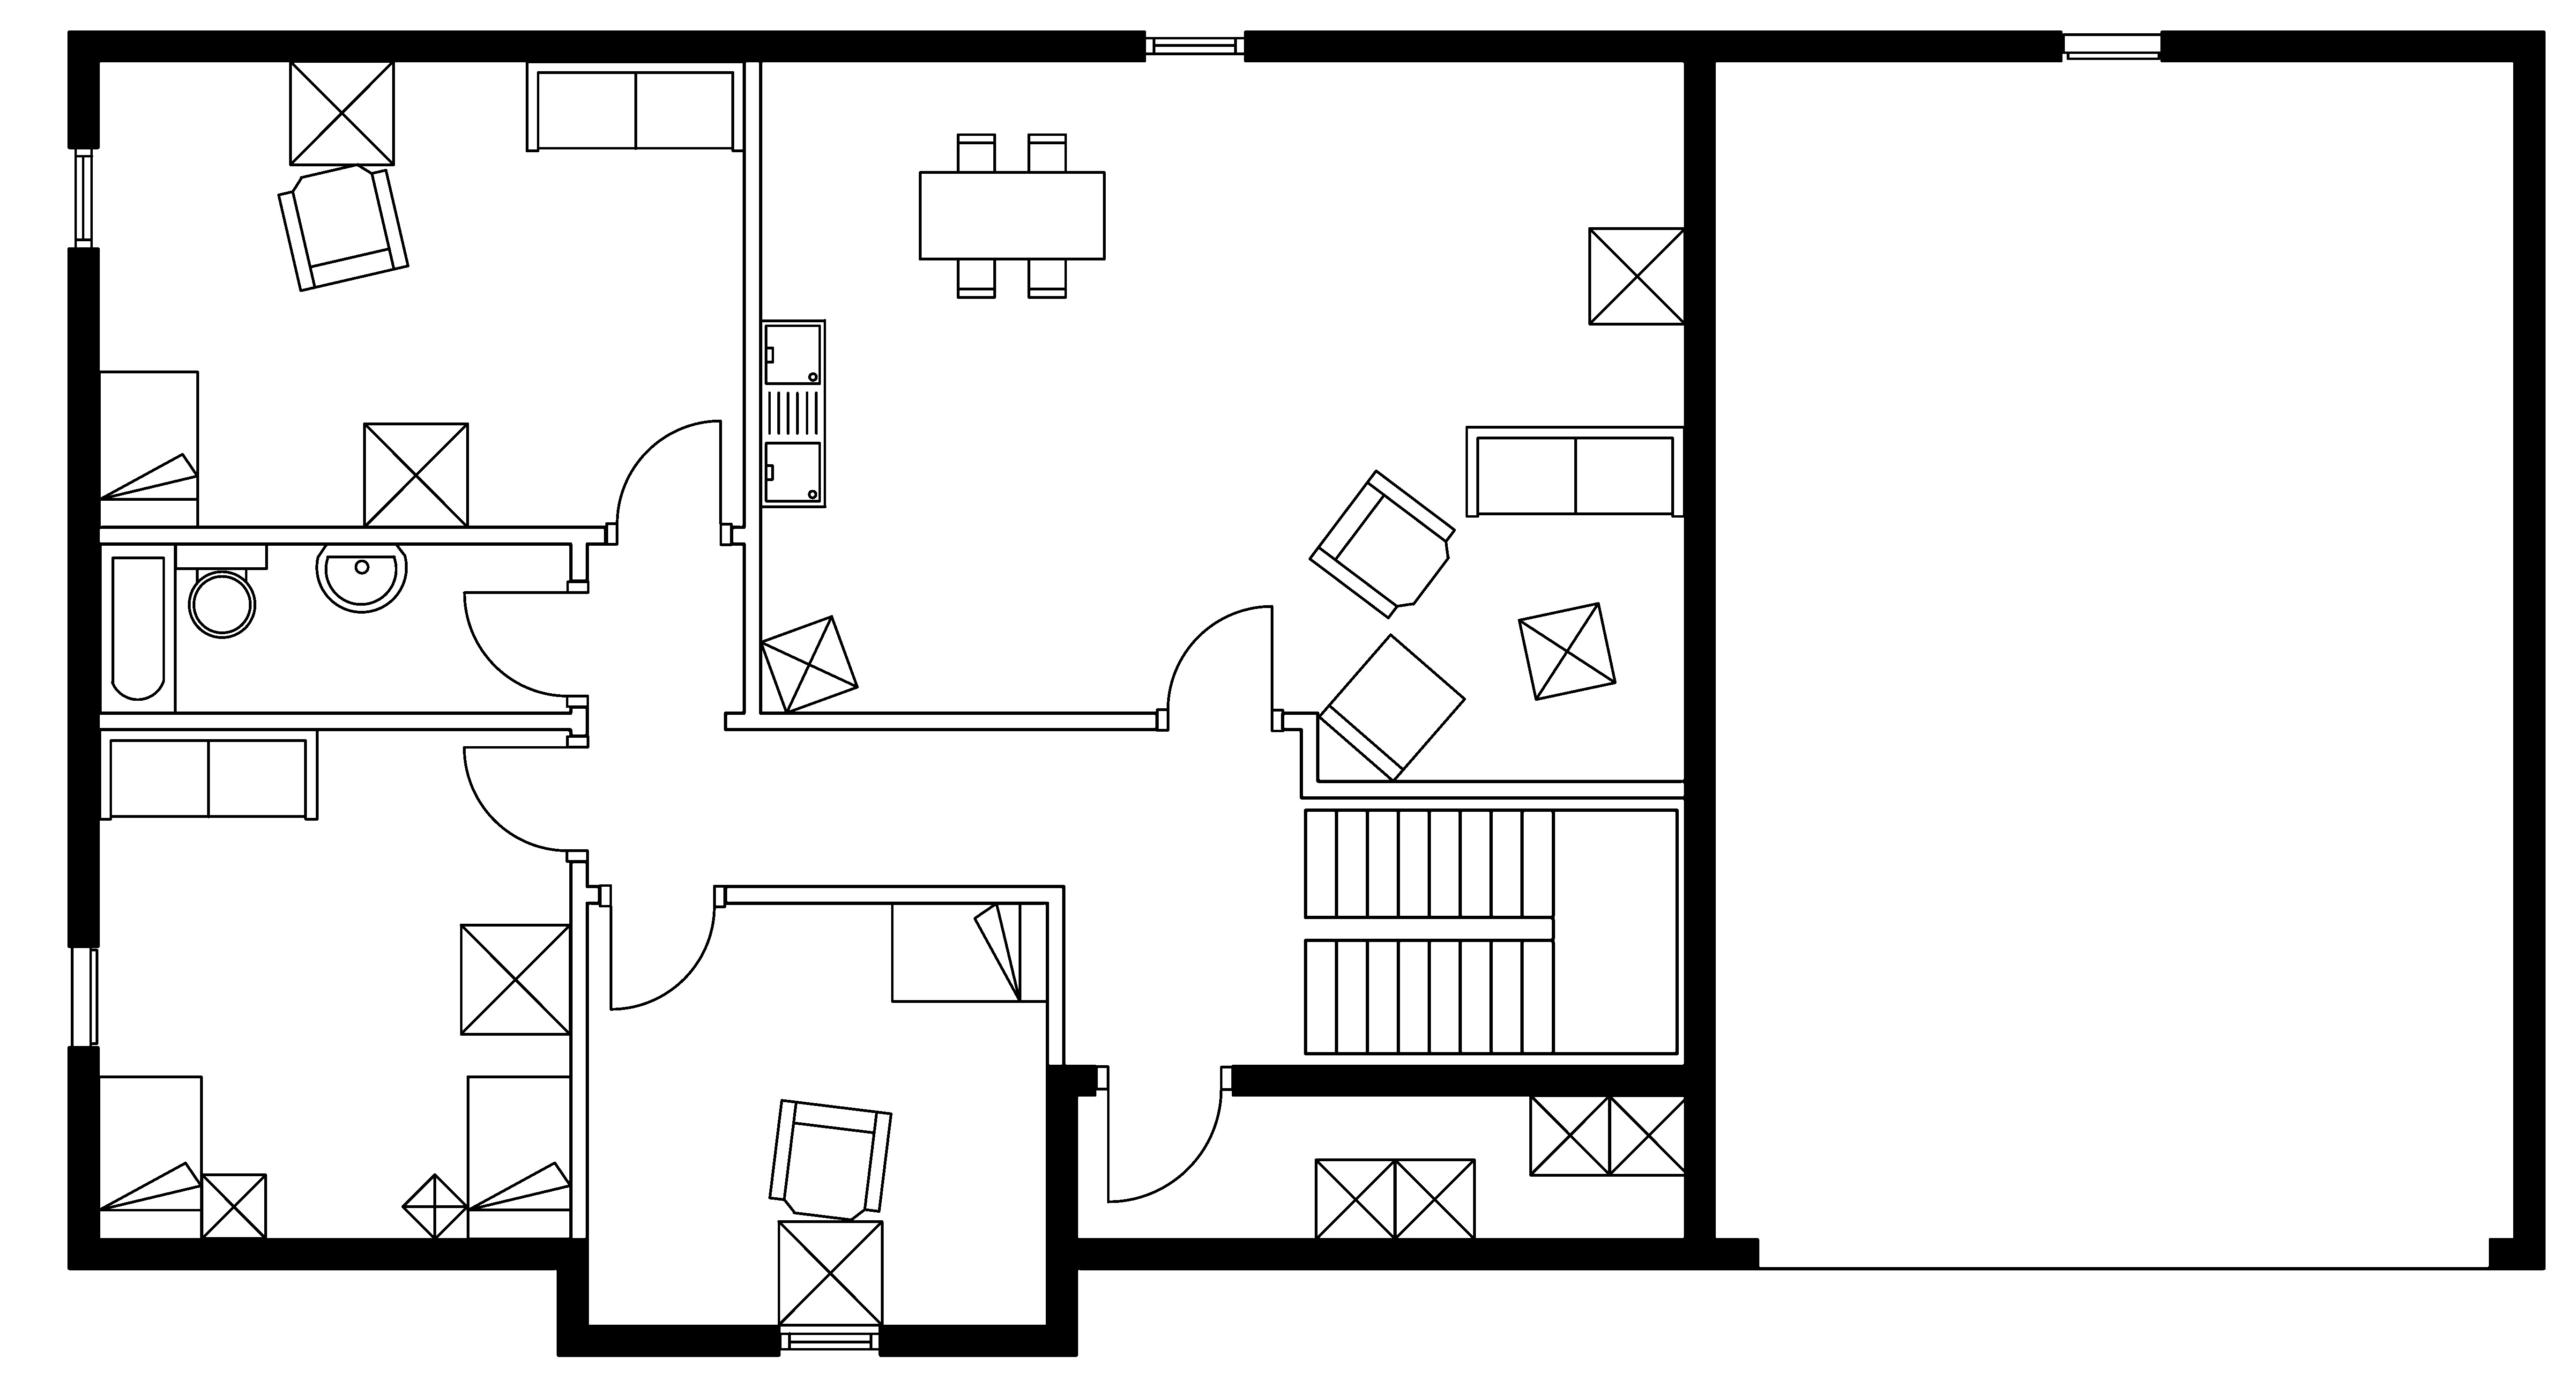armchair: (1307, 468, 1455, 620), (277, 162, 410, 292), (767, 1098, 893, 1221)
bed: (96, 1074, 203, 1240), (465, 1074, 572, 1240), (97, 369, 200, 530), (890, 900, 1049, 1003)
coffee_table: (458, 922, 572, 1035), (362, 422, 470, 530), (287, 58, 395, 166), (776, 1220, 883, 1327), (758, 613, 859, 714), (1517, 601, 1618, 702), (1587, 225, 1686, 326), (1527, 1093, 1613, 1177), (1607, 1093, 1691, 1177), (1392, 1156, 1476, 1240), (1314, 1156, 1397, 1240), (400, 1172, 470, 1240), (200, 1172, 268, 1240)
dining_table: (917, 132, 1107, 299)
large_sink: (173, 541, 268, 639)
large_sofa: (1464, 424, 1686, 518), (97, 728, 319, 820), (524, 60, 746, 152)
small_sink: (316, 541, 407, 613)
small_sofa: (1317, 632, 1467, 782)
tub: (97, 541, 178, 714)
twin_sink: (758, 318, 827, 509)
